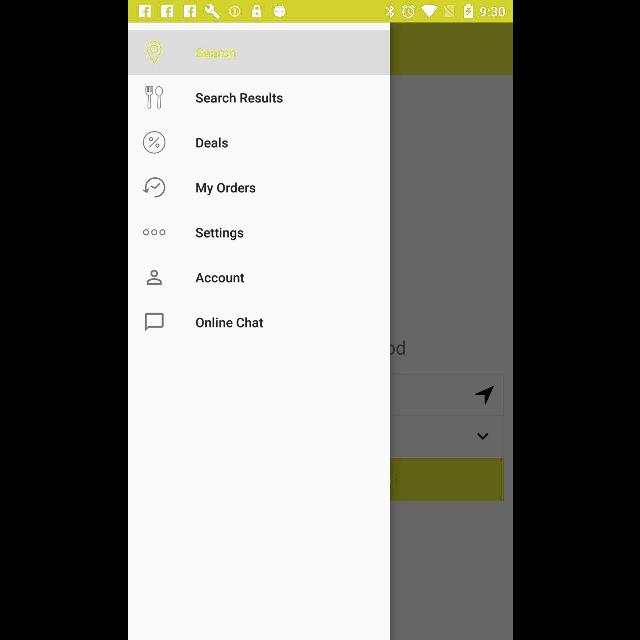icon: (142, 132, 166, 154), (142, 178, 166, 198), (144, 86, 162, 110), (144, 313, 164, 332), (474, 386, 494, 404), (145, 42, 161, 64), (145, 269, 161, 285), (142, 230, 166, 237), (477, 432, 488, 440)
panel: (127, 22, 389, 640)
text: (194, 92, 282, 104), (195, 182, 255, 196), (195, 316, 263, 328), (194, 272, 243, 284), (195, 228, 243, 240), (194, 48, 236, 58), (195, 138, 228, 148)
uppertaskbar: (128, 1, 512, 23)
